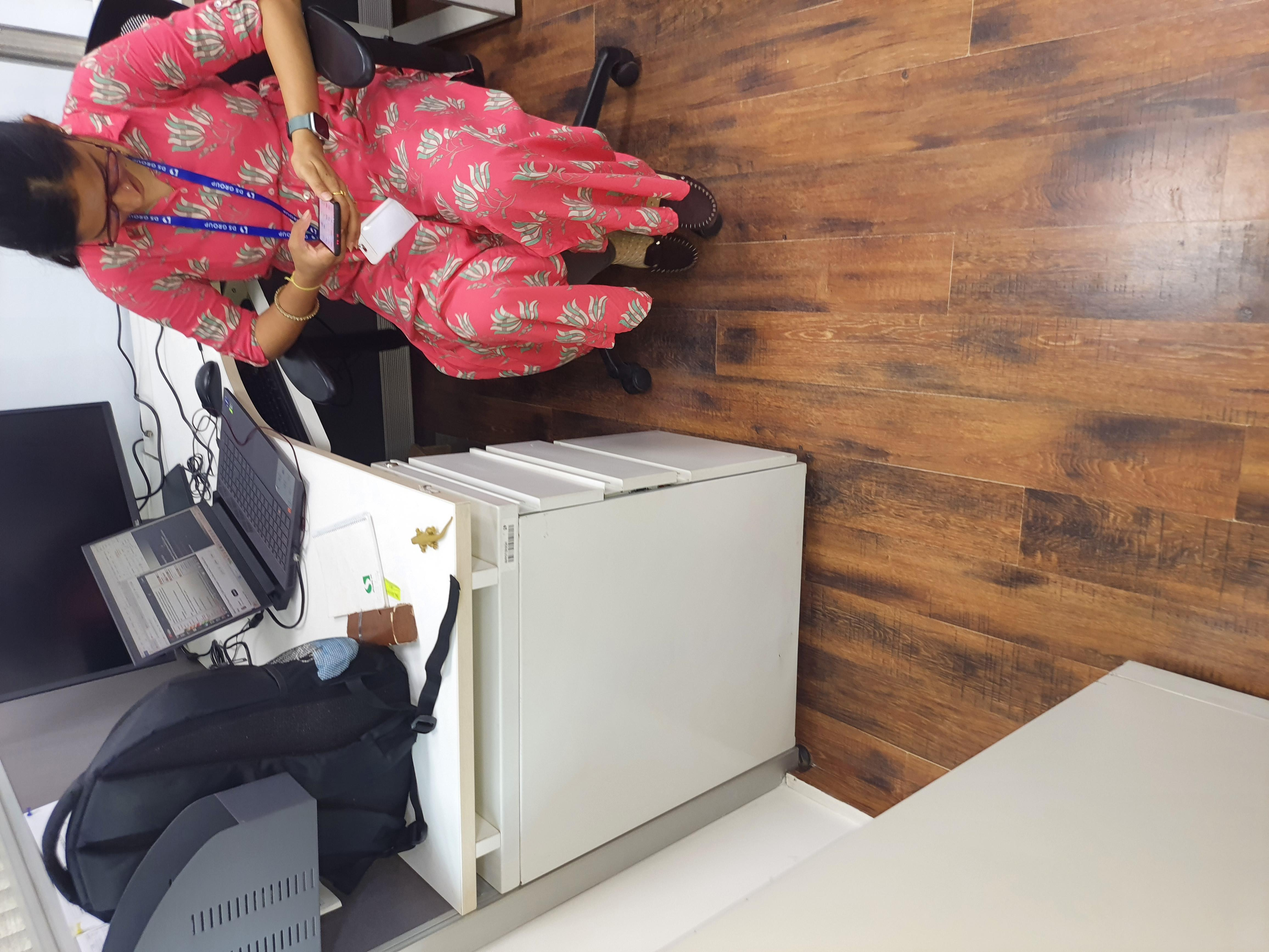lizard: (528, 295, 600, 343)
